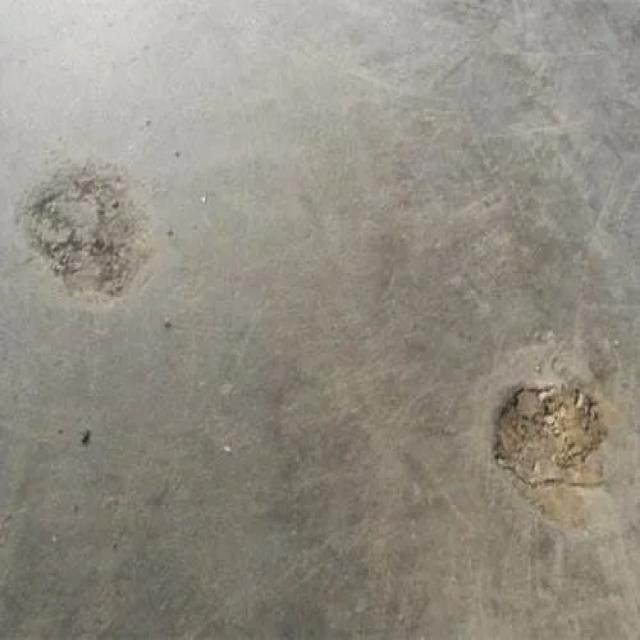Pothole: (490, 372, 608, 529), (23, 164, 155, 300)
